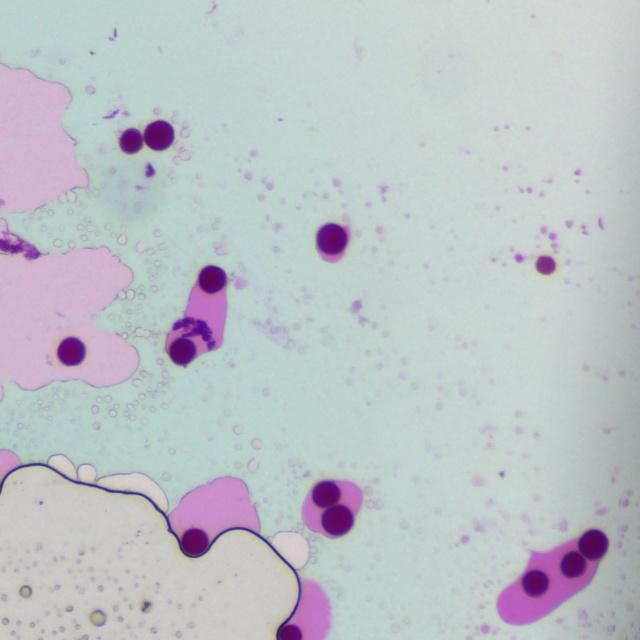viable: (321, 504, 353, 535), (317, 223, 347, 254), (144, 120, 174, 150), (579, 530, 607, 559), (312, 480, 340, 507), (181, 528, 208, 556), (198, 265, 225, 292), (58, 337, 84, 365), (169, 338, 195, 365), (522, 570, 548, 596), (561, 551, 585, 577), (119, 128, 142, 153), (278, 624, 302, 639), (537, 255, 555, 274)
